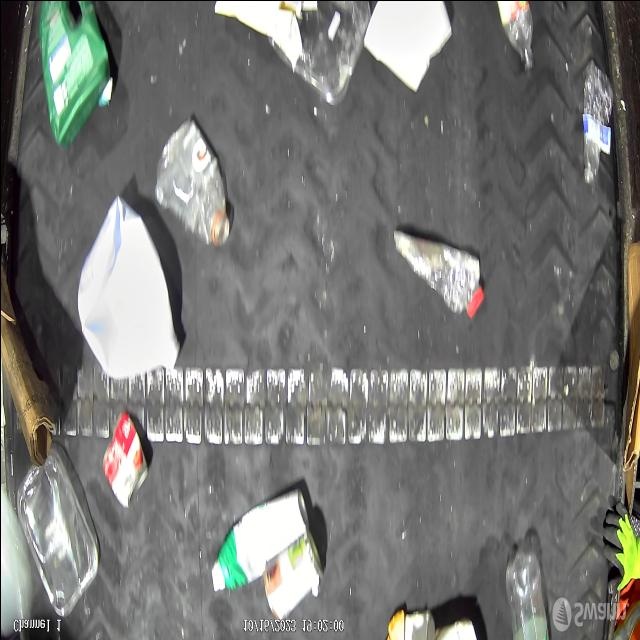can: (262, 529, 322, 621), (100, 410, 149, 509)
milk_jug: (76, 193, 180, 378)
non_white_jug: (38, 0, 112, 148)
plastic_bottle: (152, 116, 232, 250), (391, 227, 484, 321), (580, 59, 614, 188), (502, 547, 548, 640), (496, 1, 536, 78)
